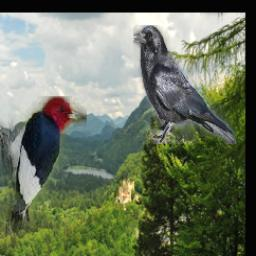Crow: (132, 25, 235, 144)
Woodpecker: (0, 96, 86, 236)
